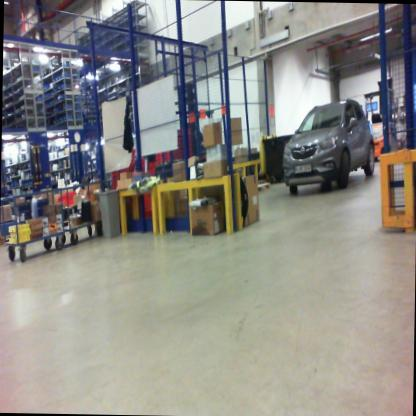forklift: (362, 67, 404, 166)
pallet: (252, 181, 273, 198)
